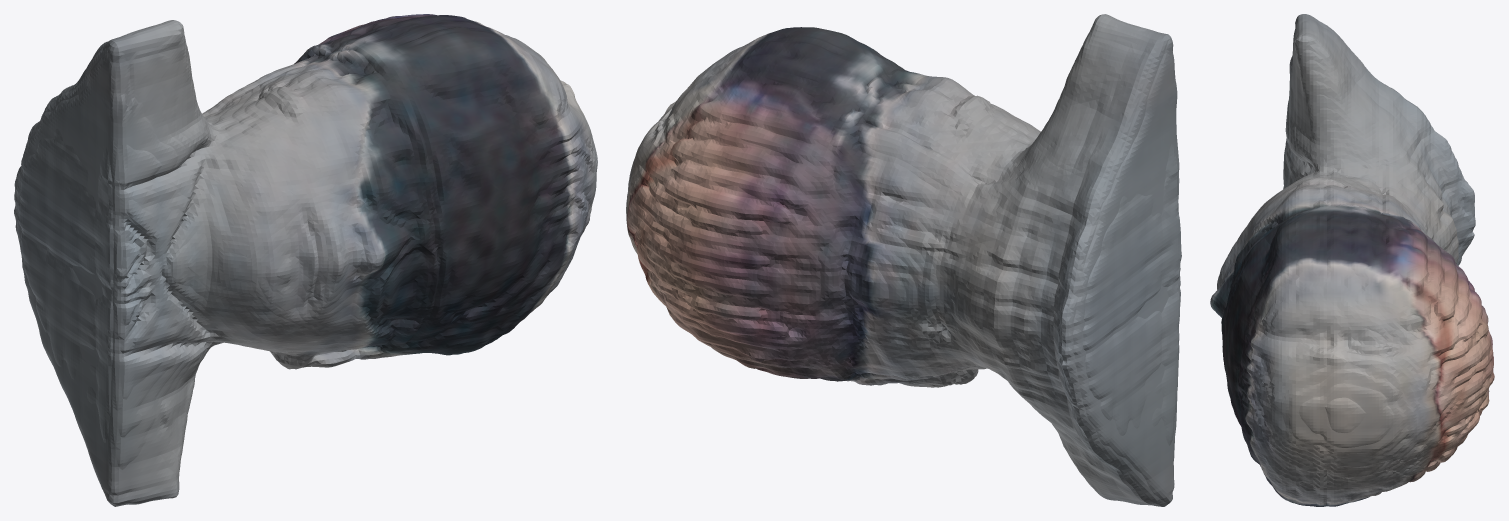
The model's file is gen_4be6c1f3.glb.
The picture shows the model from 3 angles, left to right: view 1: azimuth 30°, elevation 25°; view 2: azimuth 150°, elevation 25°; view 3: azimuth 270°, elevation 25°; orthographic projection. The views are drawn at different scales.
Visible parts, largest first — view 1: world; view 2: world; view 3: world.
Boxes of the visible parts, x1,y1,x2,y2 form: world: [14, 14, 597, 506]; world: [626, 14, 1181, 506]; world: [1210, 14, 1494, 506].
Bounding box in the file's own units: 0.9665 × 0.8889 × 0.56.
